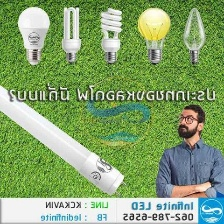light_bulb: (0, 78, 127, 199), (135, 6, 172, 66), (16, 5, 51, 66), (180, 6, 208, 67), (58, 2, 83, 64), (98, 6, 123, 64)
